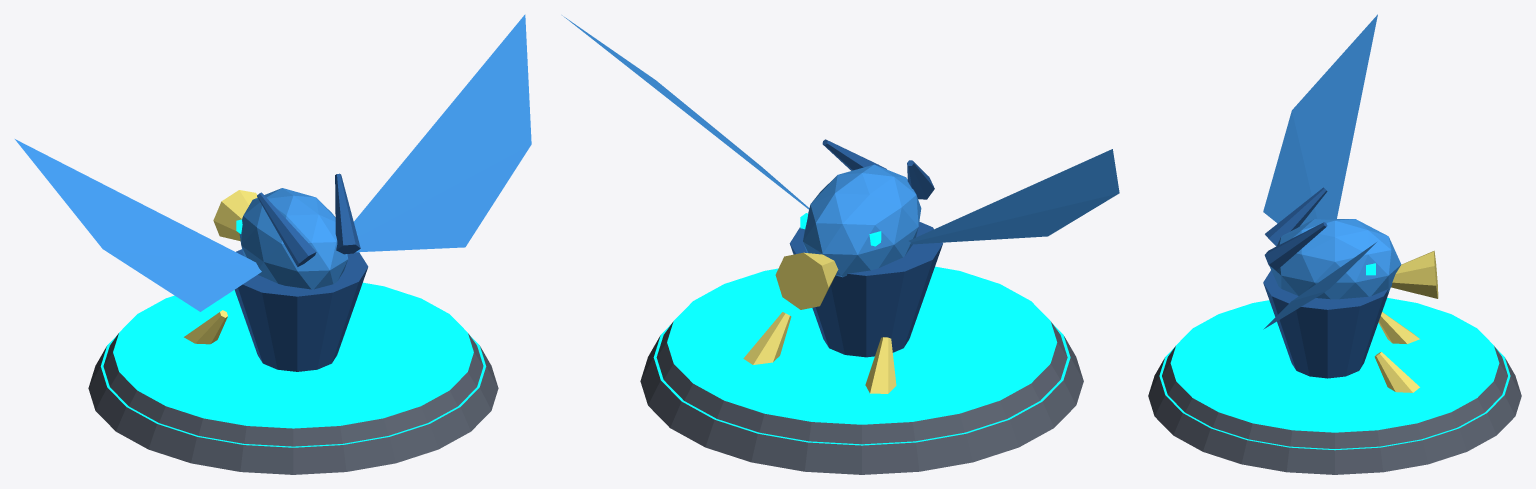
The model's file is zephyr_gryphon.glb.
3 renders of one model, left to right at view 1: azimuth 30°, elevation 25°; view 2: azimuth 150°, elevation 25°; view 3: azimuth 270°, elevation 25°, orthographic. The views are drawn at different scales.
Visible parts, largest first — view 1: GrandRunicPedestal, GryphonWing_R, GryphonWing_L, GryphonChest, GryphonHead, GryphonCrest_L, GryphonCrest_R, GryphonBeak, GryphonTalon_L; view 2: GrandRunicPedestal, GryphonHead, GryphonChest, GryphonWing_L, GryphonBeak, GryphonWing_R, ZephyrTheTempestGryphon, GryphonTalon_L, GryphonCrest_L, GryphonCrest_R; view 3: GrandRunicPedestal, GryphonWing_L, GryphonChest, GryphonHead, GryphonBeak, GryphonWing_R, GryphonCrest_R, GryphonCrest_L, ZephyrTheTempestGryphon, GryphonTalon_L.
Part boxes in pixels (x1=…): GrandRunicPedestal: x1=88, y1=282, x2=498, y2=474; GryphonWing_R: x1=354, y1=14, x2=531, y2=252; GryphonWing_L: x1=15, y1=139, x2=261, y2=311; GryphonChest: x1=235, y1=249, x2=368, y2=371; GryphonHead: x1=239, y1=188, x2=347, y2=289; GryphonCrest_L: x1=257, y1=192, x2=316, y2=266; GryphonCrest_R: x1=335, y1=173, x2=360, y2=254; GryphonBeak: x1=213, y1=190, x2=257, y2=241; GryphonTalon_L: x1=184, y1=310, x2=227, y2=344; GrandRunicPedestal: x1=640, y1=266, x2=1083, y2=474; GryphonHead: x1=803, y1=164, x2=921, y2=277; GryphonChest: x1=789, y1=221, x2=942, y2=357; GryphonWing_L: x1=909, y1=149, x2=1119, y2=244; GryphonBeak: x1=775, y1=252, x2=838, y2=309; GryphonWing_R: x1=562, y1=15, x2=809, y2=209; ZephyrTheTempestGryphon: x1=743, y1=312, x2=791, y2=364; GryphonTalon_L: x1=865, y1=337, x2=896, y2=393; GryphonCrest_L: x1=907, y1=160, x2=934, y2=199; GryphonCrest_R: x1=822, y1=139, x2=886, y2=170; GrandRunicPedestal: x1=1148, y1=298, x2=1521, y2=474; GryphonWing_L: x1=1263, y1=14, x2=1377, y2=226; GryphonChest: x1=1263, y1=270, x2=1389, y2=378; GryphonHead: x1=1269, y1=219, x2=1401, y2=299; GryphonBeak: x1=1391, y1=250, x2=1438, y2=298; GryphonWing_R: x1=1263, y1=242, x2=1376, y2=329; GryphonCrest_R: x1=1264, y1=222, x2=1327, y2=270; GryphonCrest_L: x1=1265, y1=187, x2=1327, y2=246; ZephyrTheTempestGryphon: x1=1374, y1=352, x2=1419, y2=392; GryphonTalon_L: x1=1378, y1=312, x2=1419, y2=344.
Size of the model in its own units: 3.74 by 2.06 by 2.6.
